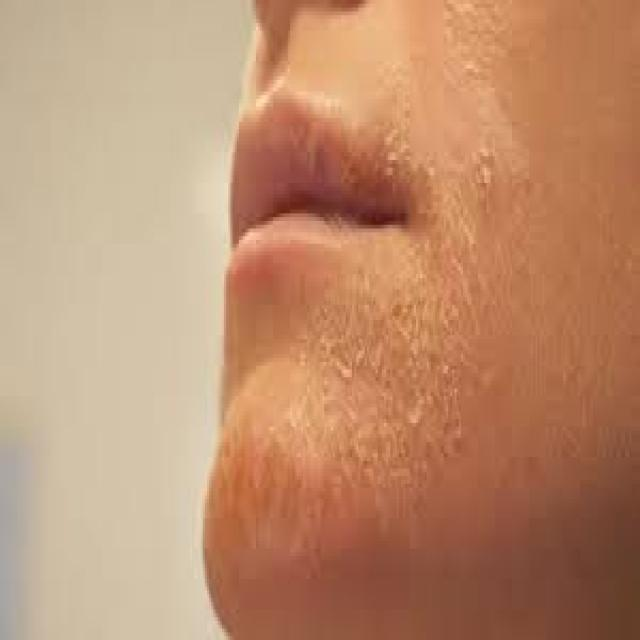flakiness: (311, 316, 465, 490)
